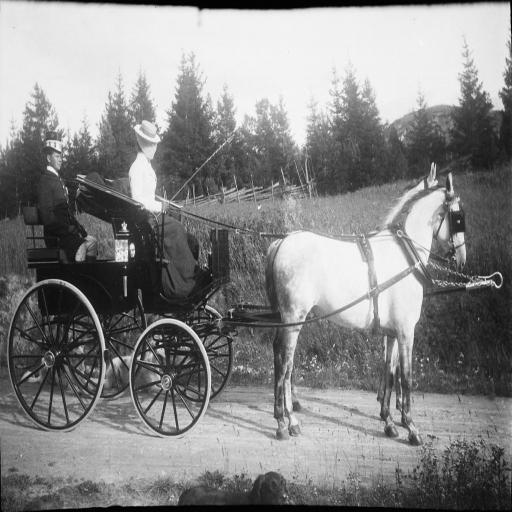Horse: (263, 172, 467, 444), (263, 159, 440, 419)
